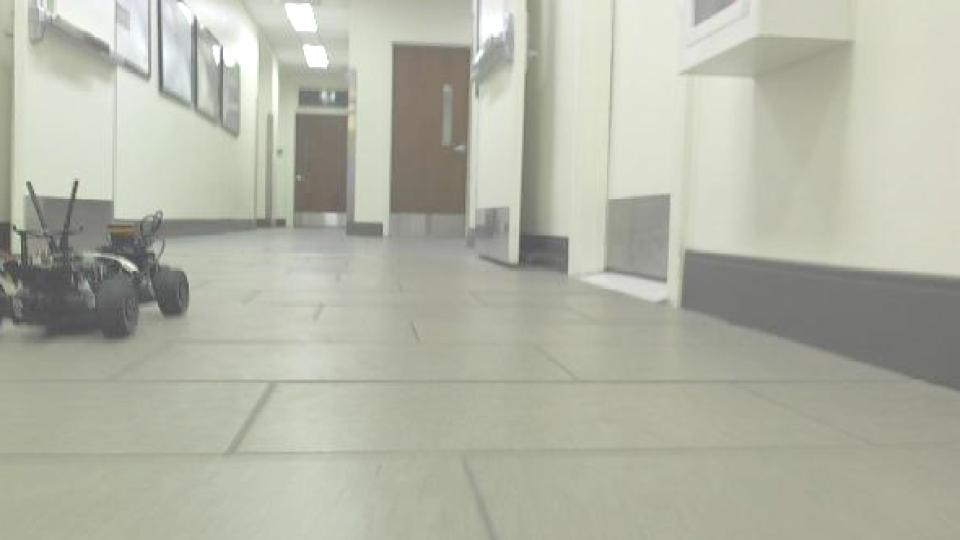car: (0, 175, 194, 342)
